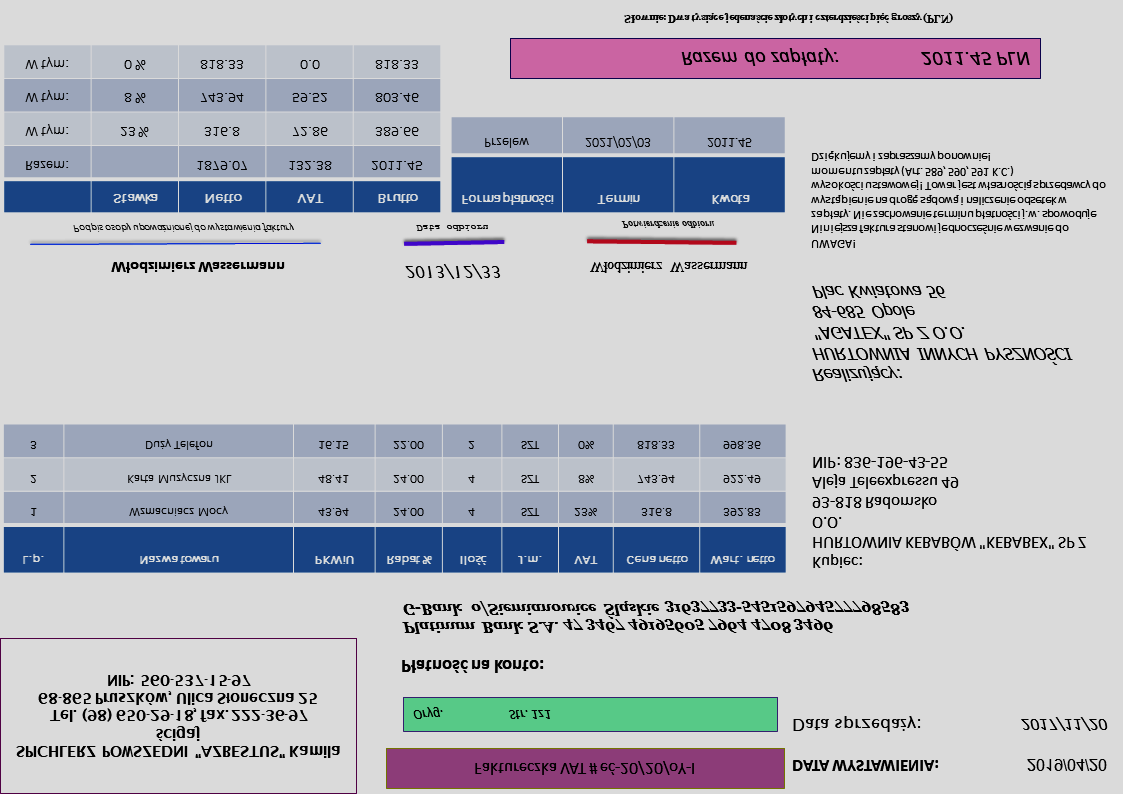Table: (1, 422, 789, 576), (2, 43, 443, 215), (449, 115, 789, 215)
TextBox: (809, 451, 1089, 572), (808, 149, 1111, 252), (13, 670, 345, 762), (808, 278, 1075, 388), (399, 595, 915, 639), (676, 44, 1033, 72), (620, 9, 957, 29), (469, 758, 697, 780), (107, 256, 289, 280), (69, 220, 297, 238), (791, 754, 942, 779), (399, 653, 546, 678), (585, 258, 752, 278), (791, 713, 924, 735), (411, 705, 554, 725), (401, 261, 503, 284), (1017, 714, 1109, 736), (1024, 756, 1111, 777), (410, 220, 493, 238), (618, 217, 717, 232)
